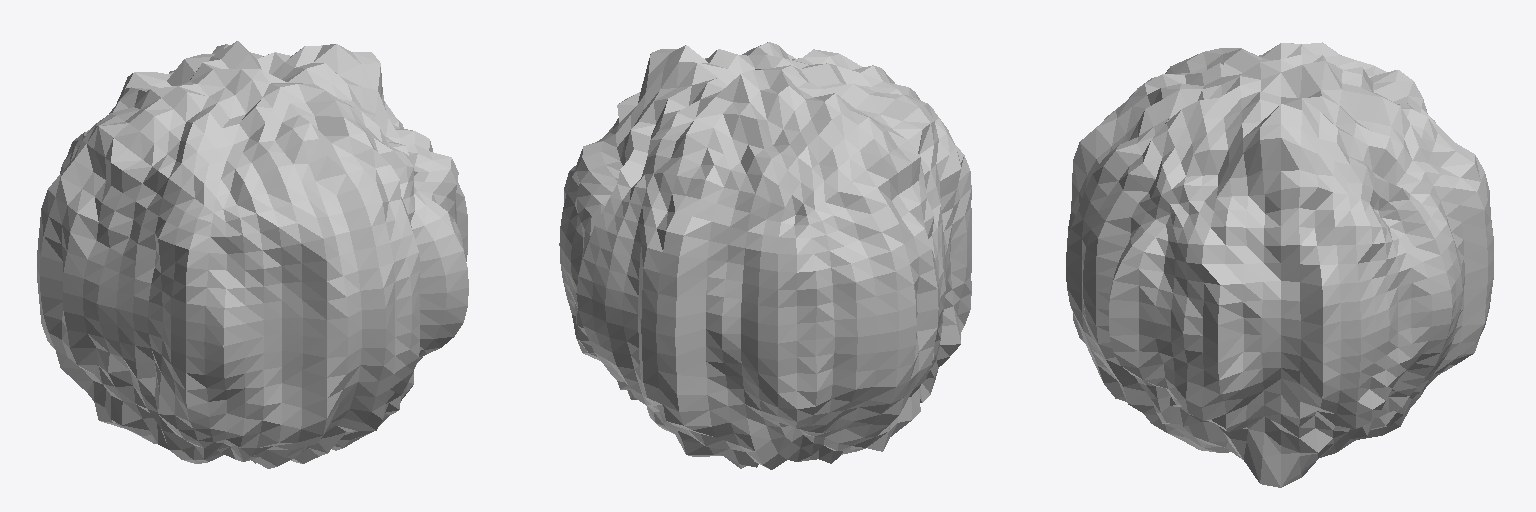
Rendered from asteroid129.obj.
3 renders of one model, left to right at view 1: azimuth 30°, elevation 25°; view 2: azimuth 150°, elevation 25°; view 3: azimuth 270°, elevation 25°, orthographic.
Parts seen in each view (by area): view 1: Cube_Cube.002; view 2: Cube_Cube.002; view 3: Cube_Cube.002.
Boxes of the visible parts, box(x1,y1,x2,y2) form: Cube_Cube.002: box(37, 41, 468, 468); Cube_Cube.002: box(559, 42, 971, 469); Cube_Cube.002: box(1066, 42, 1493, 487).
Bounding box in the file's own units: 1.81 × 1.88 × 1.84.